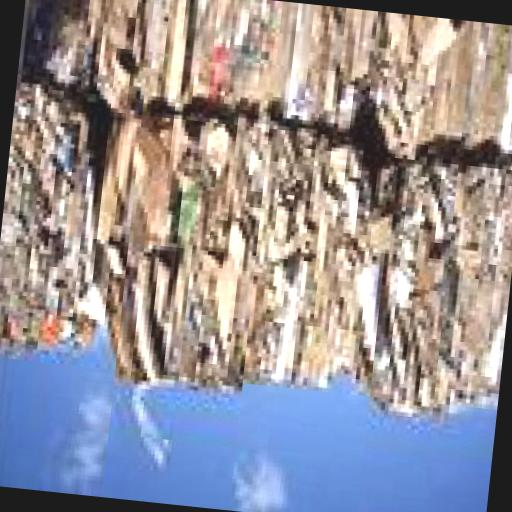cardboard: (74, 108, 389, 412), (359, 152, 512, 431), (94, 0, 374, 138), (0, 82, 120, 355), (370, 16, 512, 175), (20, 0, 119, 96)
